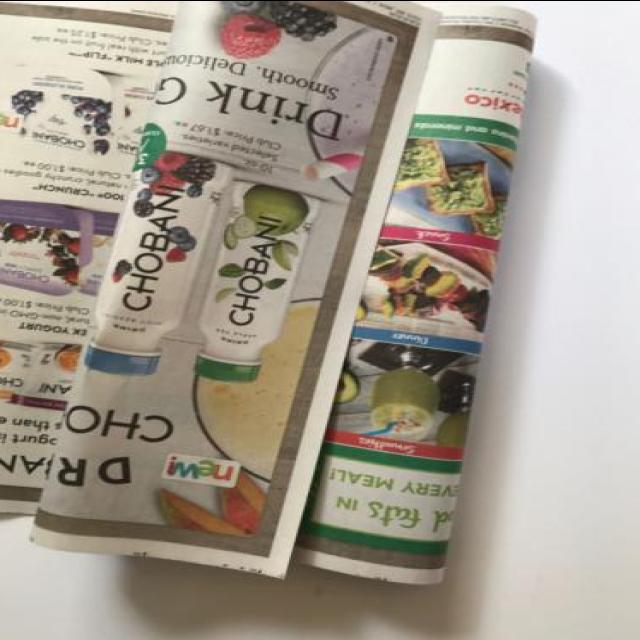kertas: (0, 0, 542, 584)
